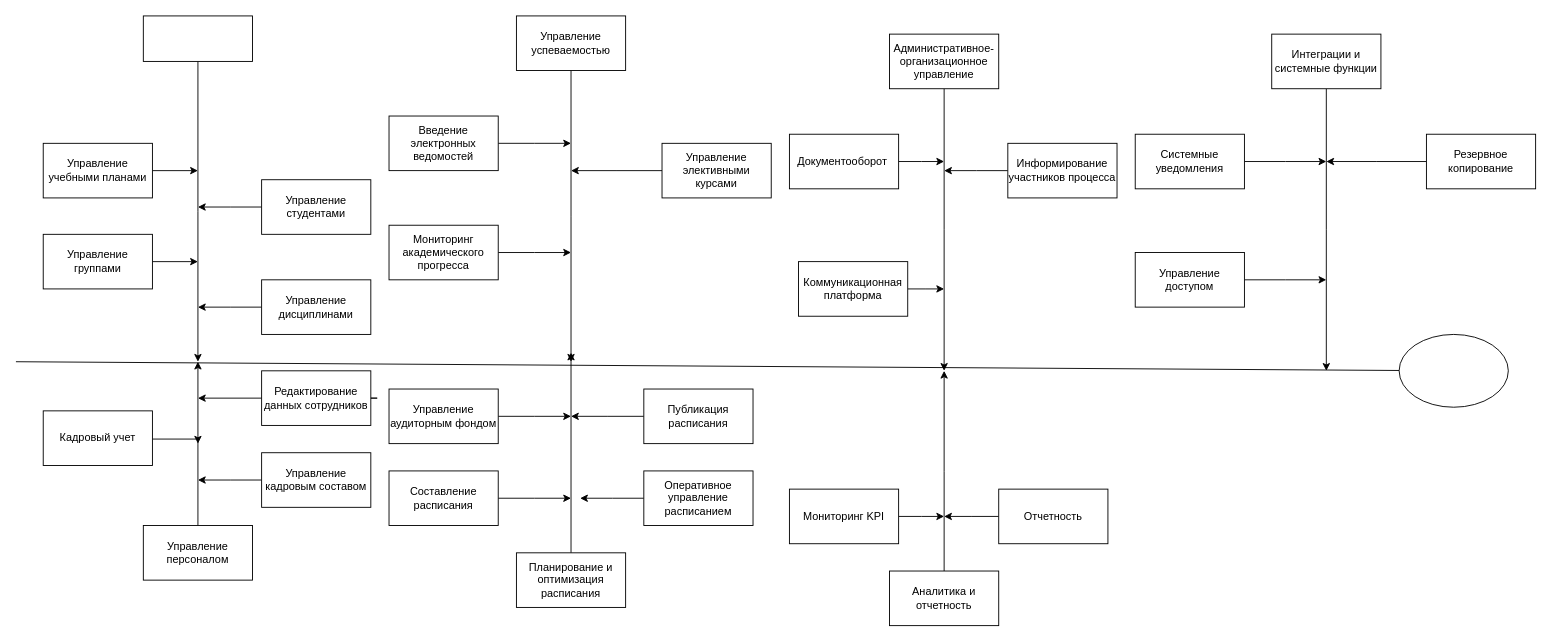
Some shapes in this 1552 by 642 pixel diagram are drawn without their labels. The box of each missing label's shape, as (x1, y1, x2, y2) in pixels:
Информационная система университета: (1398, 334, 1508, 407)
Управление учебным процессом: (142, 15, 253, 61)
